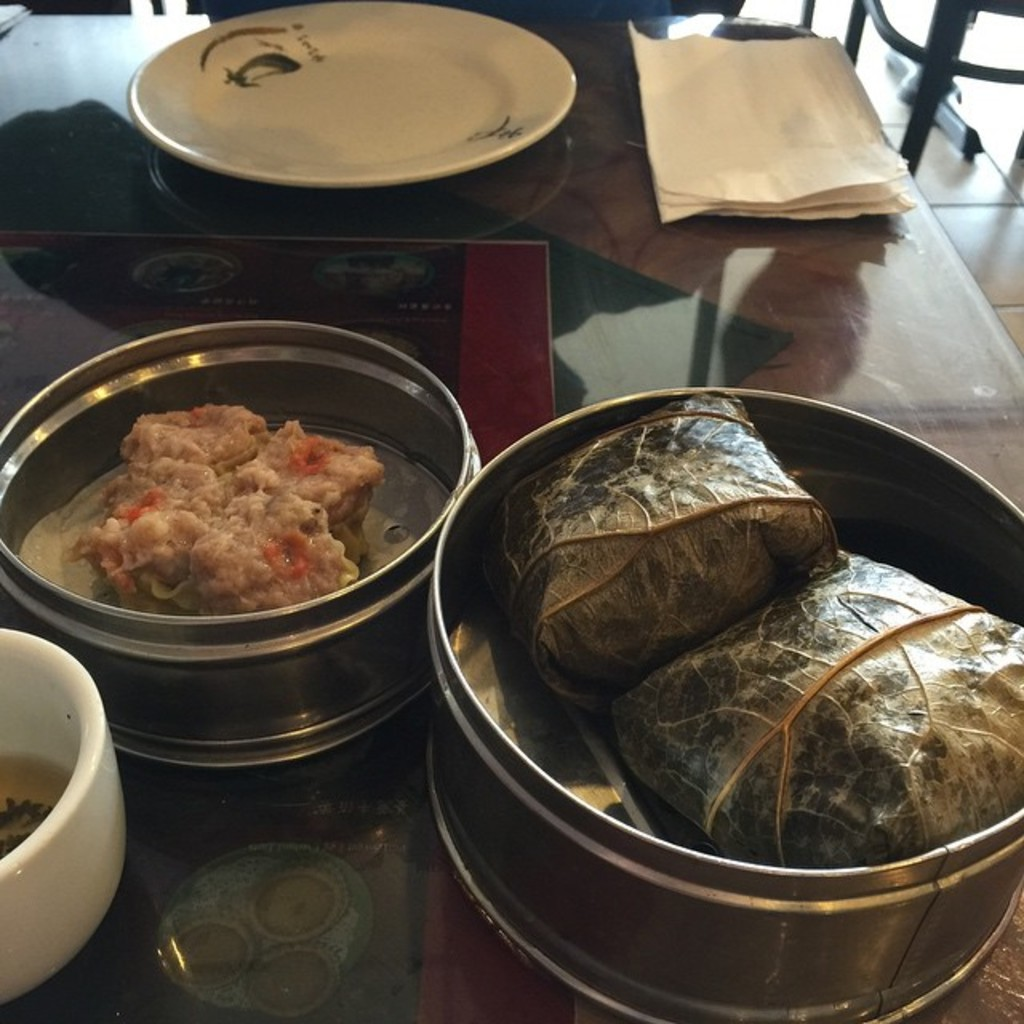plate: (131, 0, 592, 199)
